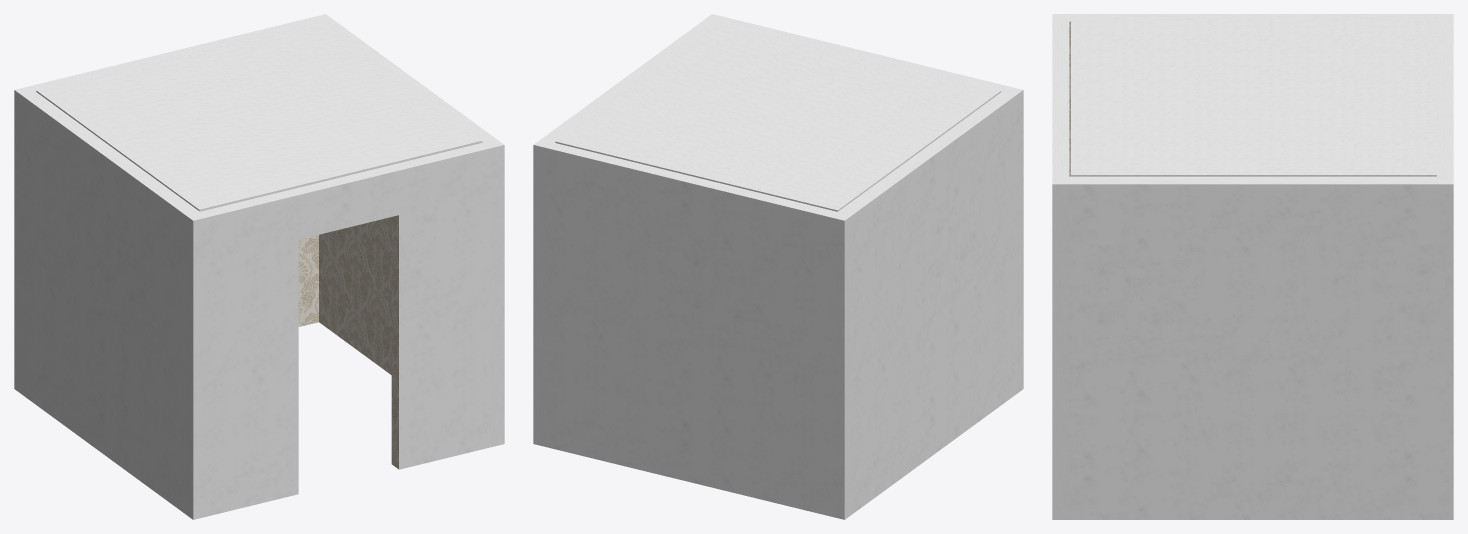
The model's file is room_walls.glb.
3 views of the same model, side by side, from view 1: azimuth 30°, elevation 25°; view 2: azimuth 150°, elevation 25°; view 3: azimuth 270°, elevation 25° (orthographic). The views are drawn at different scales.
Parts seen in each view (by area): view 1: Cube.002, Plane.001; view 2: Cube.002, Plane.001; view 3: Cube.002, Plane.001.
Part boxes in pixels (x1,y1,x2,y2): Cube.002: (14,14,504,519); Plane.001: (36,21,481,211); Cube.002: (533,14,1023,519); Plane.001: (555,22,1000,211); Cube.002: (1052,14,1453,519); Plane.001: (1071,20,1436,176).
Bounding box in the file's own units: 2.6 × 2.4 × 2.59.
Materials: 2 (2 with a texture image).
